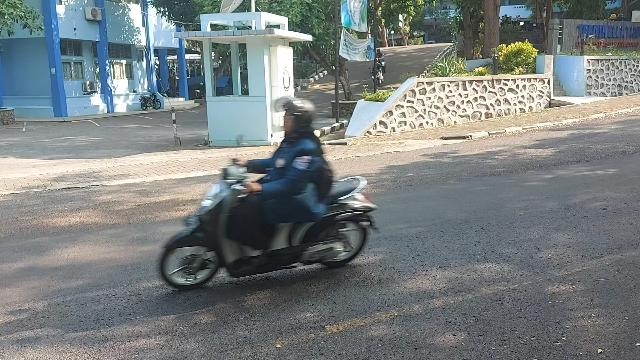helm: (276, 98, 315, 133)
motor: (159, 136, 381, 290)
